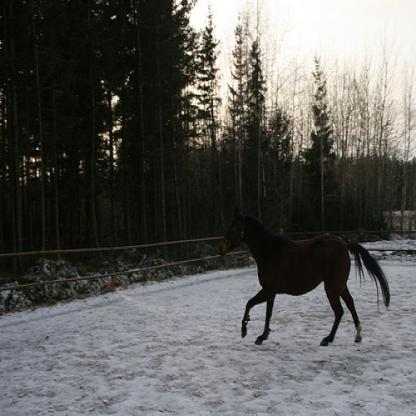horse: (219, 212, 393, 348)
